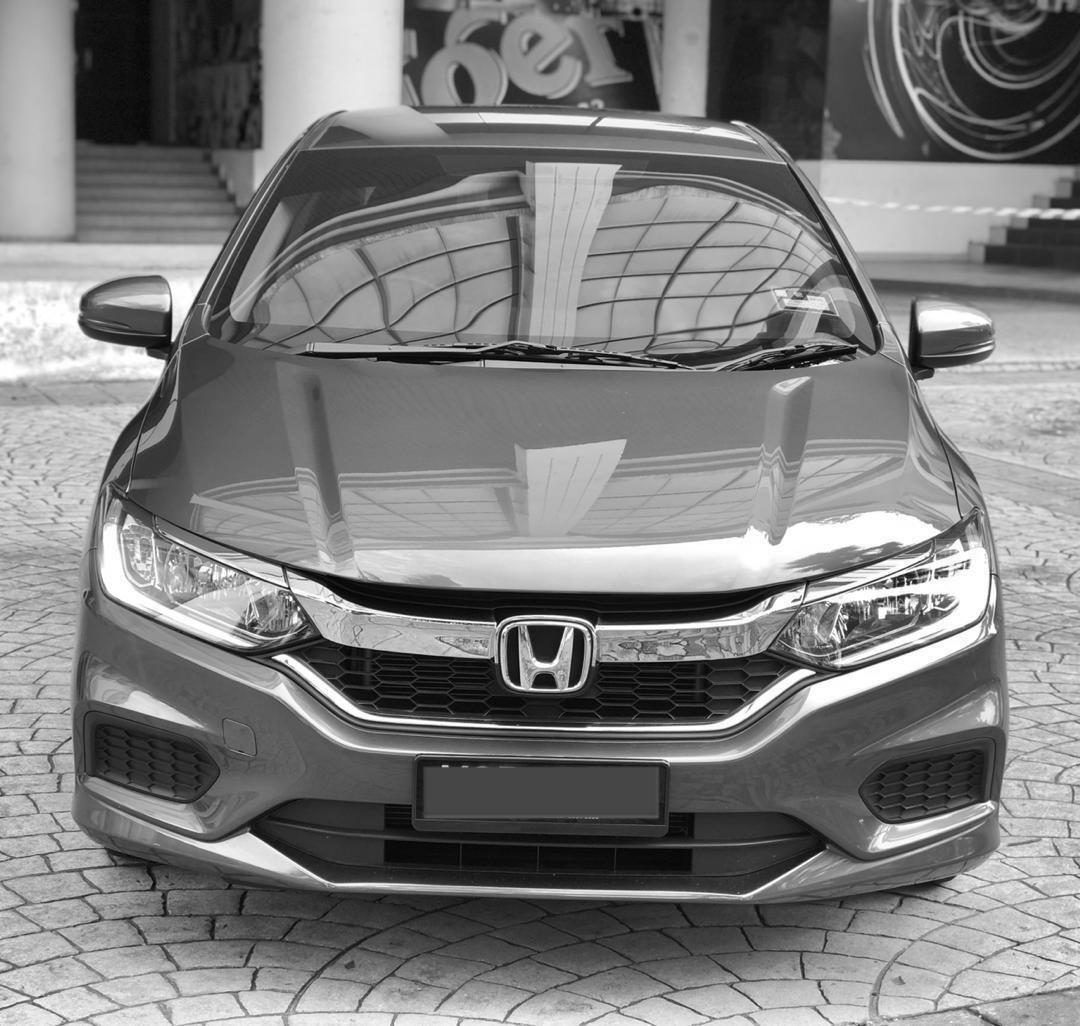Car hood: (122, 332, 968, 609)
Front bumper: (69, 599, 1008, 911)
Headlight - -L-: (767, 500, 999, 676)
Headlight - -R-: (100, 487, 321, 677)
Side mirror - -L-: (890, 295, 1002, 384)
Side mirror - -R-: (79, 275, 183, 371)
